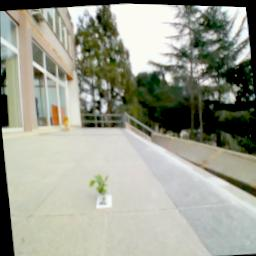herb: (87, 170, 113, 209)
